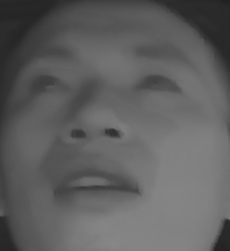eye: (129, 66, 182, 101), (24, 71, 74, 99)
mouth: (48, 162, 143, 209)
